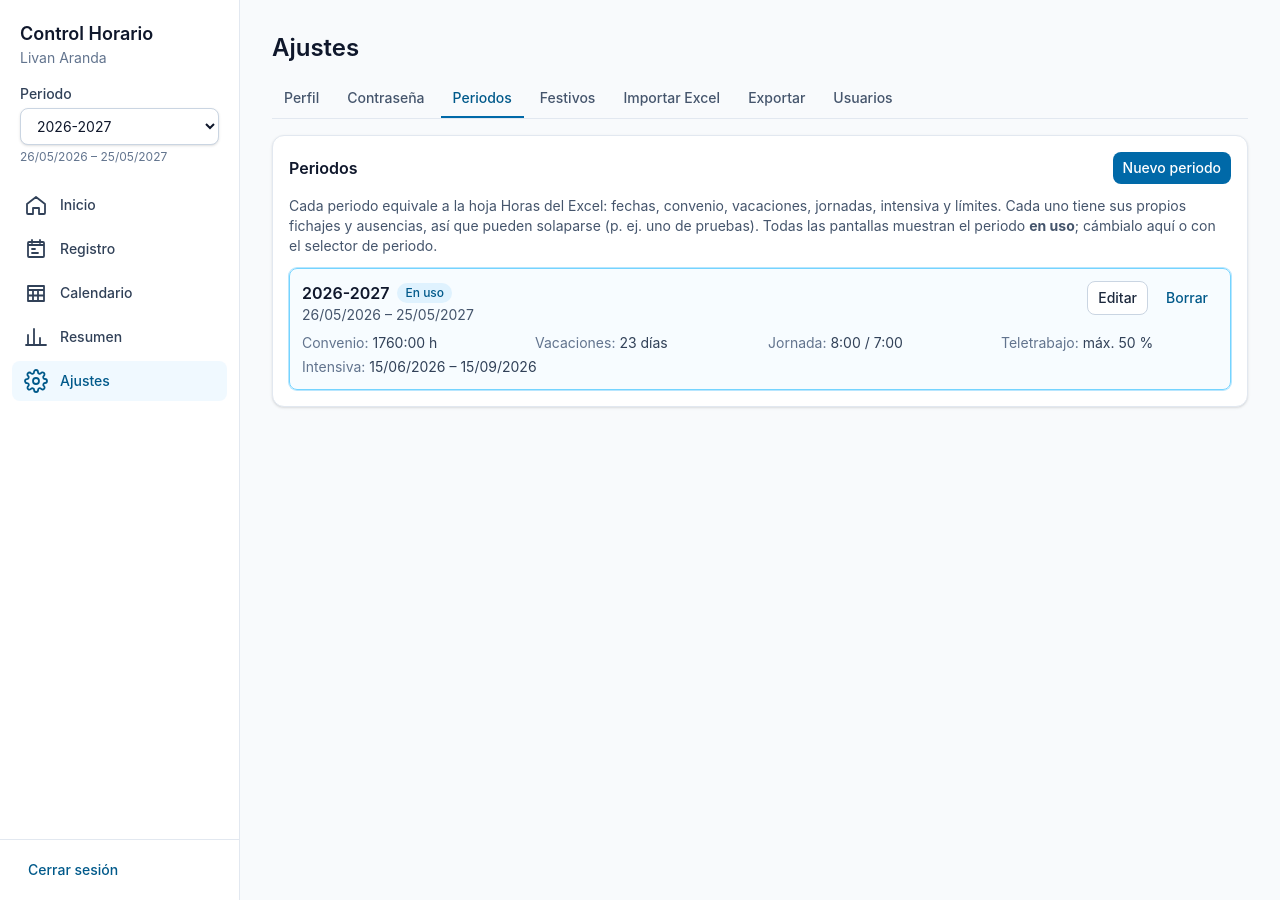
Scenario: Ajustes › un periodo nuevo empieza el día después del último
This screenshot has width=1280, height=900.
expect the button with aria-label "Editar el periodo 2026-2027" is shown: met, box [1087, 281, 1148, 315]
Click the button "Nuevo periodo": [1172, 168] box [1113, 152, 1231, 184]
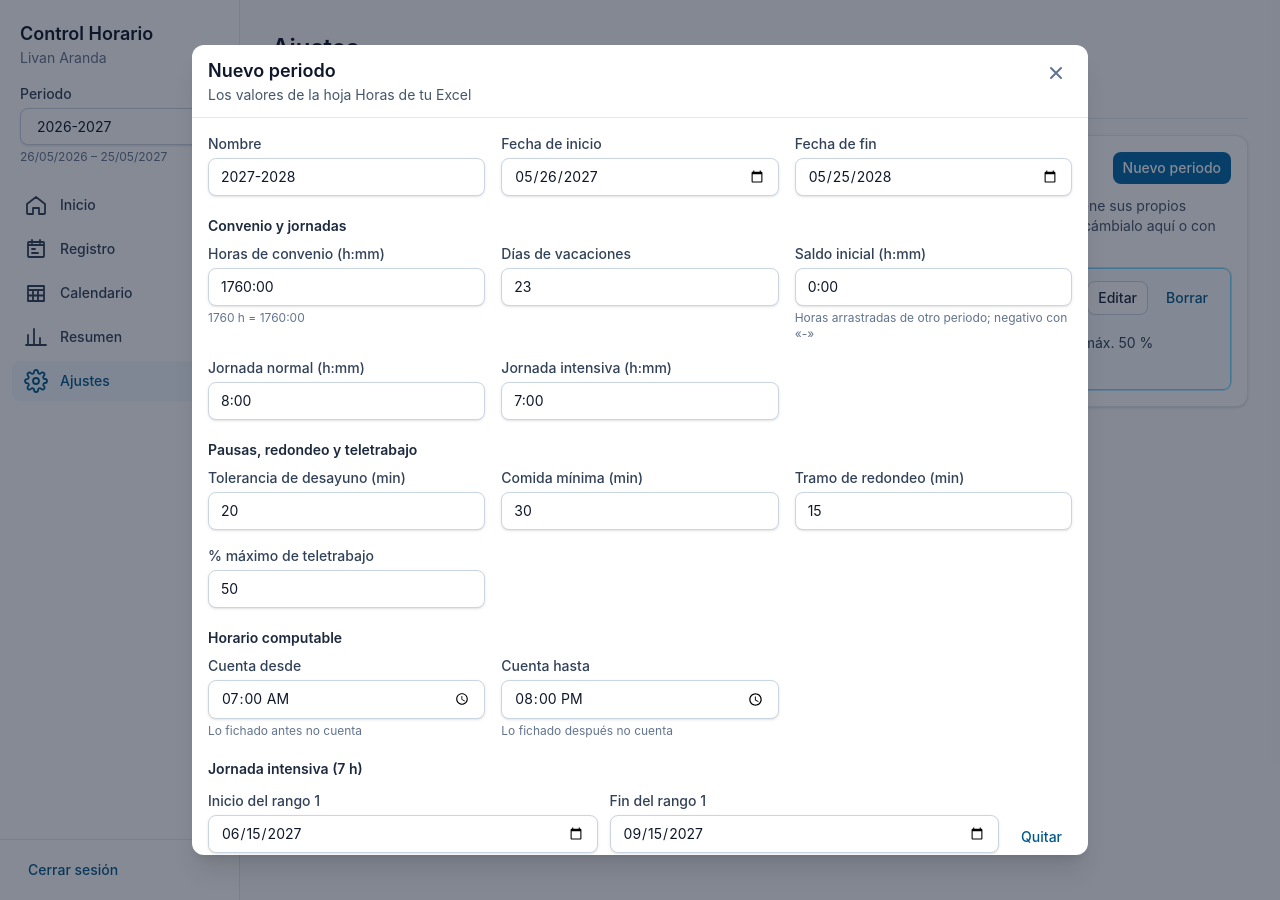
expect the field labelled "Nombre" holds "2027-2028": met, box [208, 158, 485, 196]
expect the date field labelled "Fecha de inicio" holds "2027-05-26": met, box [501, 158, 779, 196]
expect the date field labelled "Fecha de fin" holds "2028-05-25": met, box [795, 158, 1072, 196]
